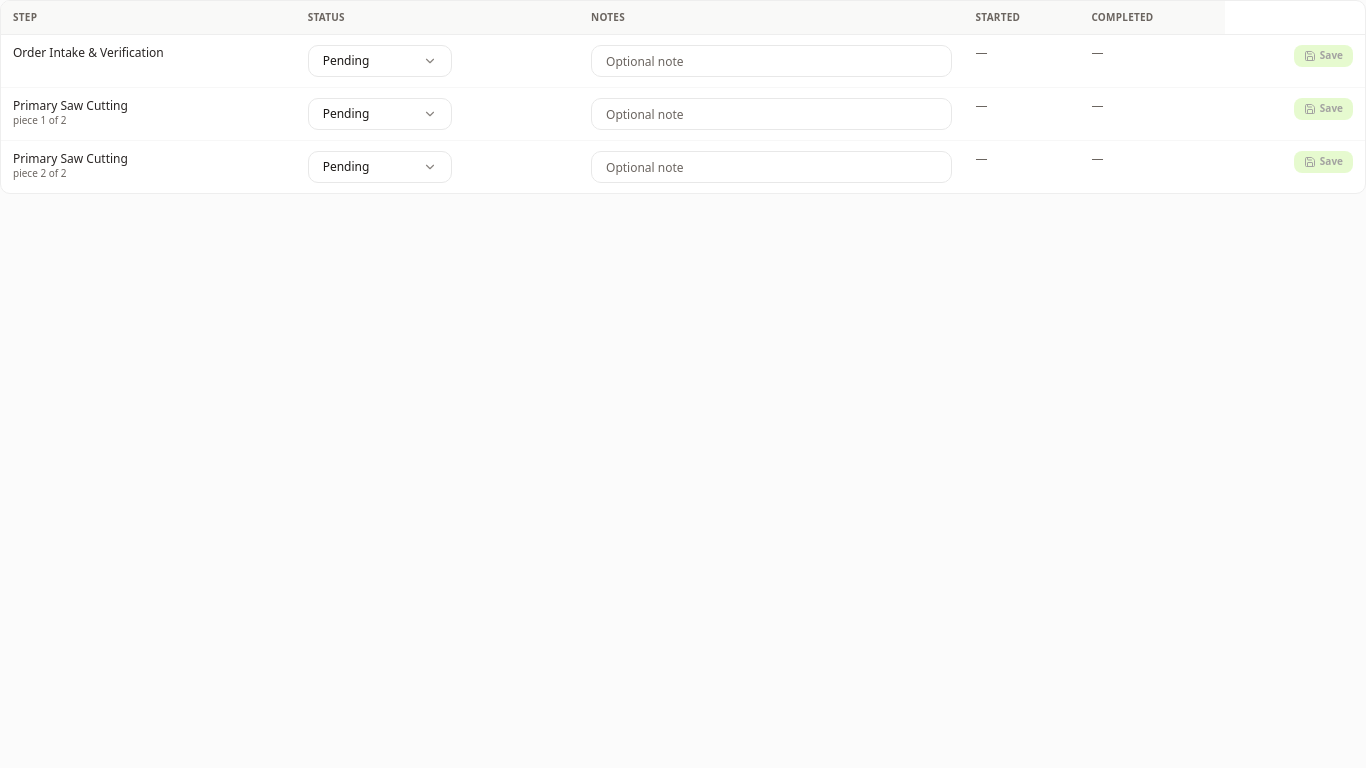
Test: FabricationStepsTab › keeps each piece’s draft separate even though the rows share a step code
The image size is (1366, 768).
Step 1. Click the dropdown named "Status for Primary Saw Cutting (piece 1 of 2)" → click(380, 114), box [308,98,452,130]
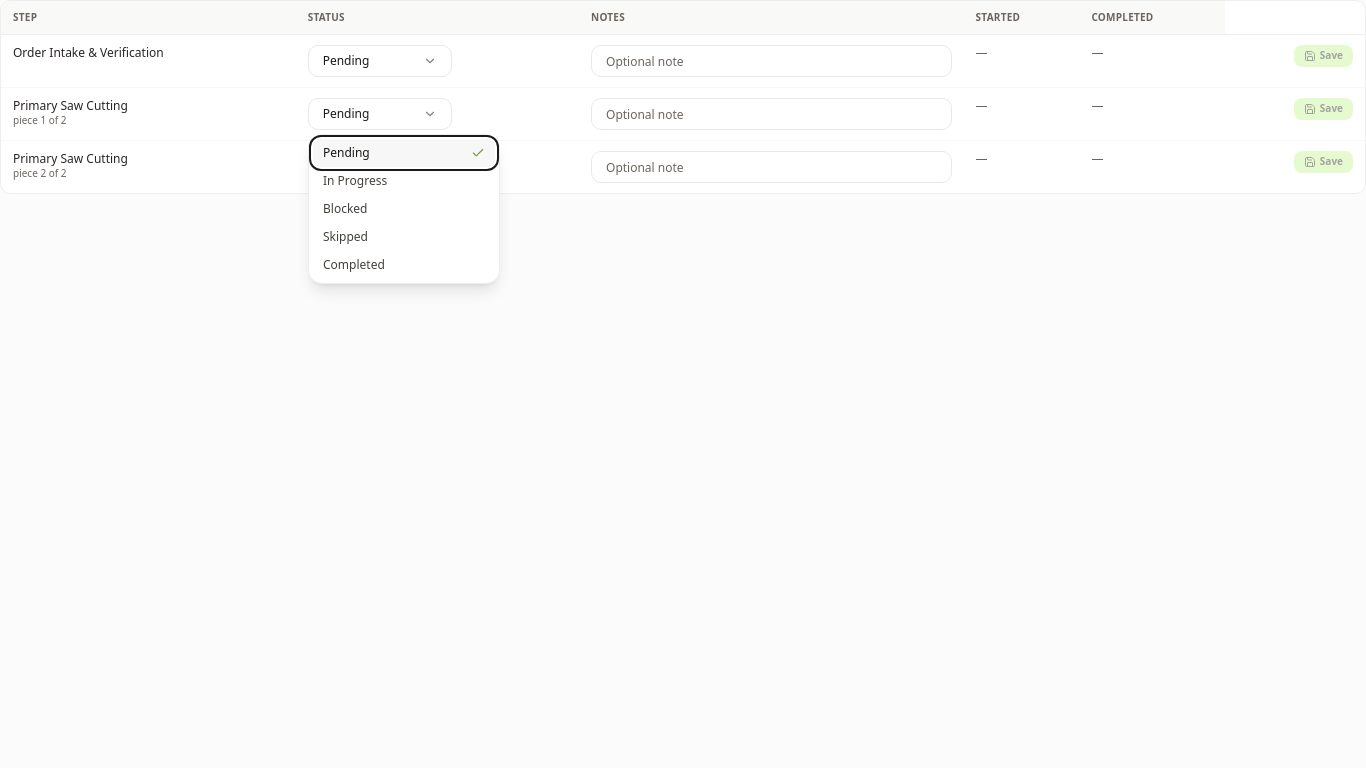
Step 2. Click the option "In Progress" → click(404, 181), box [313,167,495,195]
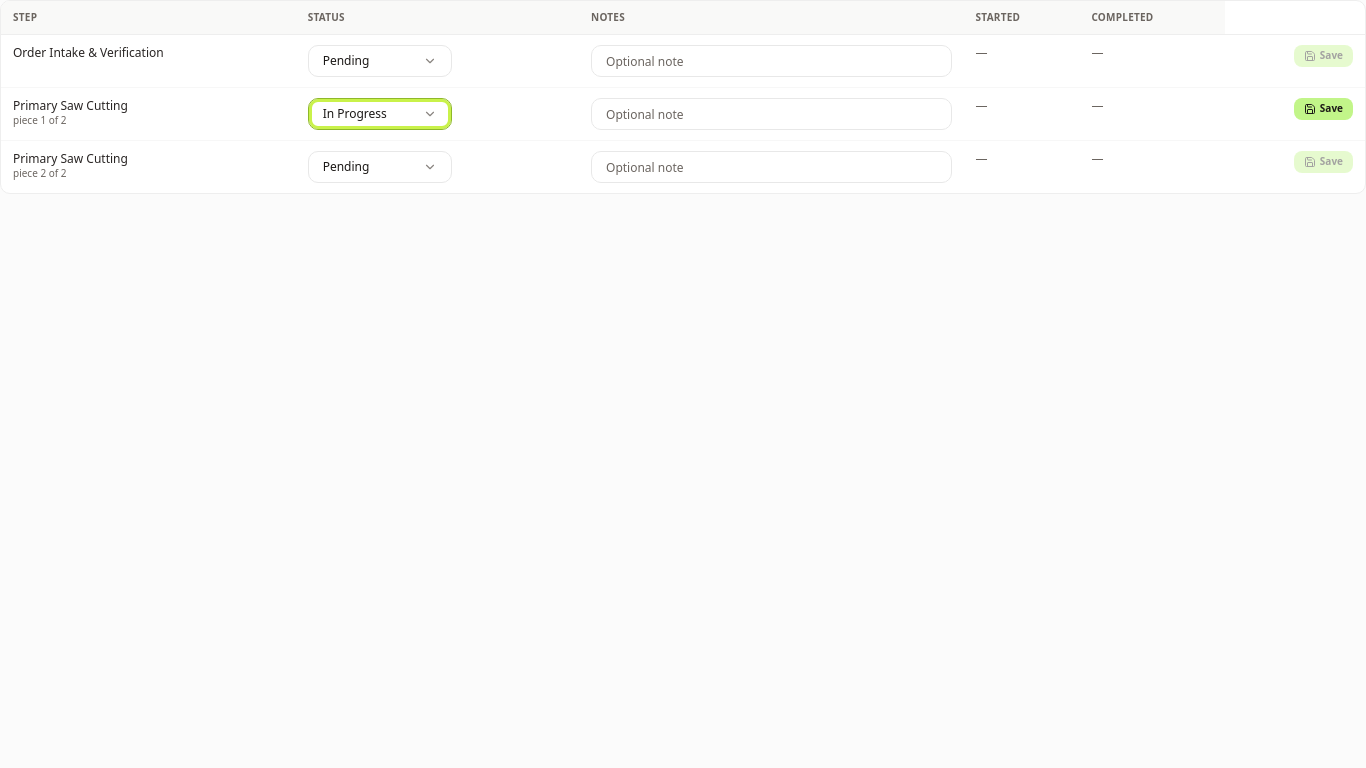
Check: the button with aria-label "Save Primary Saw Cutting (piece 2 of 2)" is disabled, box [1294,151,1353,173]
Check: the button with aria-label "Save Primary Saw Cutting (piece 1 of 2)" is enabled, box [1294,98,1353,120]
